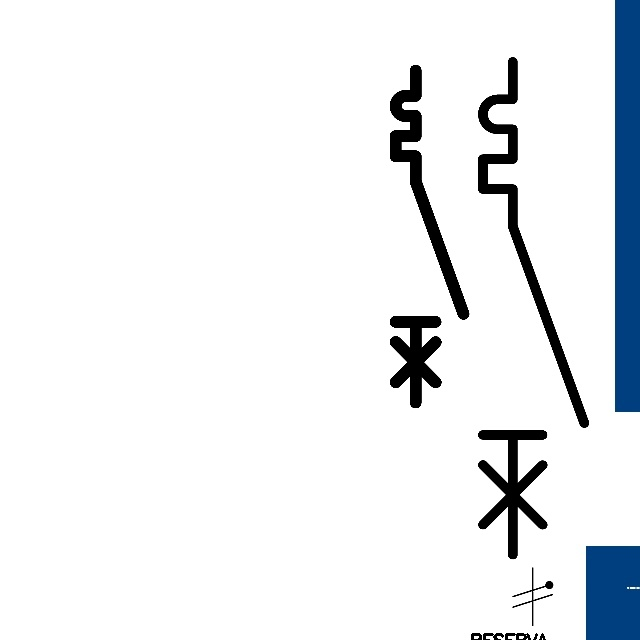interruptor_termomagnetico: (470, 49, 597, 567), (387, 62, 472, 411)
